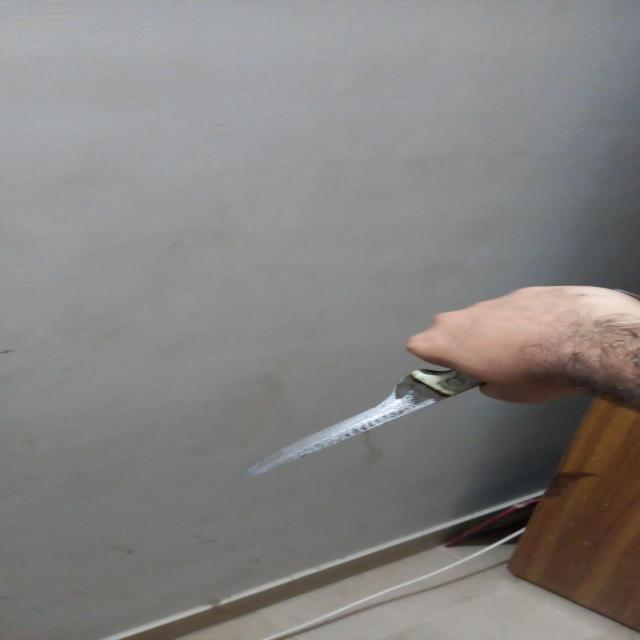faca: (237, 369, 491, 481)
